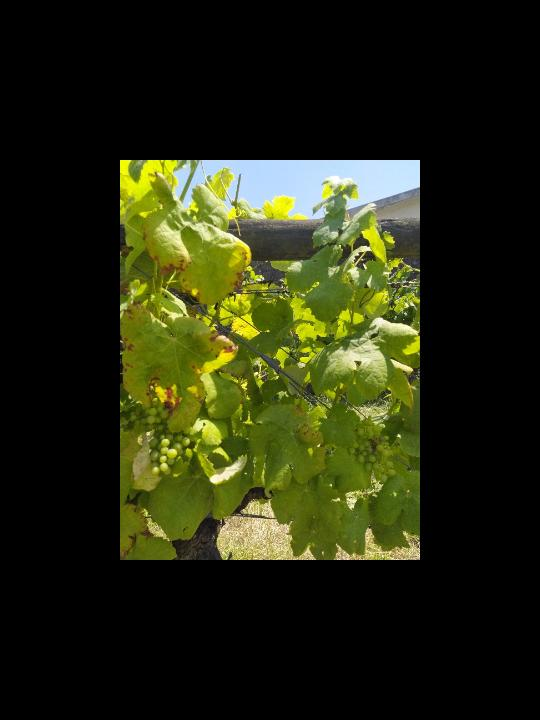grape: (141, 396, 192, 476), (348, 418, 398, 484)
